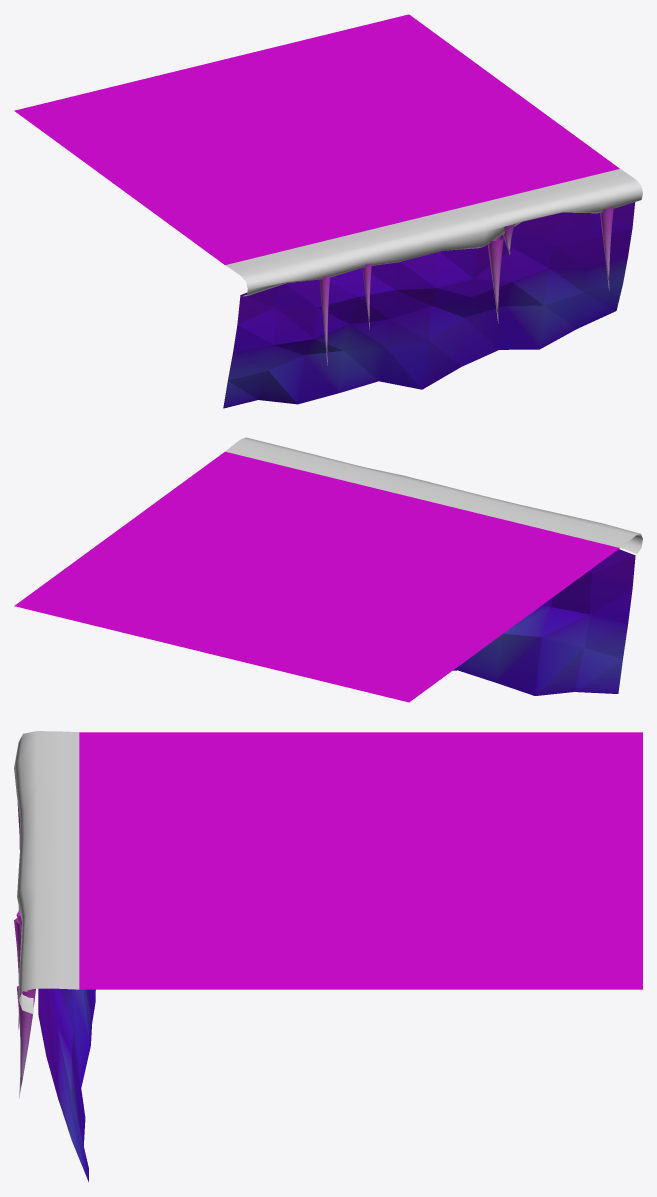
File: Kit_Ice_Edge_4_A.fbx
3 renders of one model, top to bottom at view 1: azimuth 30°, elevation 25°; view 2: azimuth 150°, elevation 25°; view 3: azimuth 270°, elevation 25°, orthographic. The views are drawn at different scales.
Visible parts, largest first — view 1: Ice_Edge_4_A; view 2: Ice_Edge_4_A; view 3: Ice_Edge_4_A.
Boxes of the visible parts, bbox=[...] form: Ice_Edge_4_A: bbox=[14, 14, 642, 408]; Ice_Edge_4_A: bbox=[14, 437, 642, 702]; Ice_Edge_4_A: bbox=[14, 731, 642, 1182].
Bounding box in the file's own units: 4 × 1.68 × 4.13.
